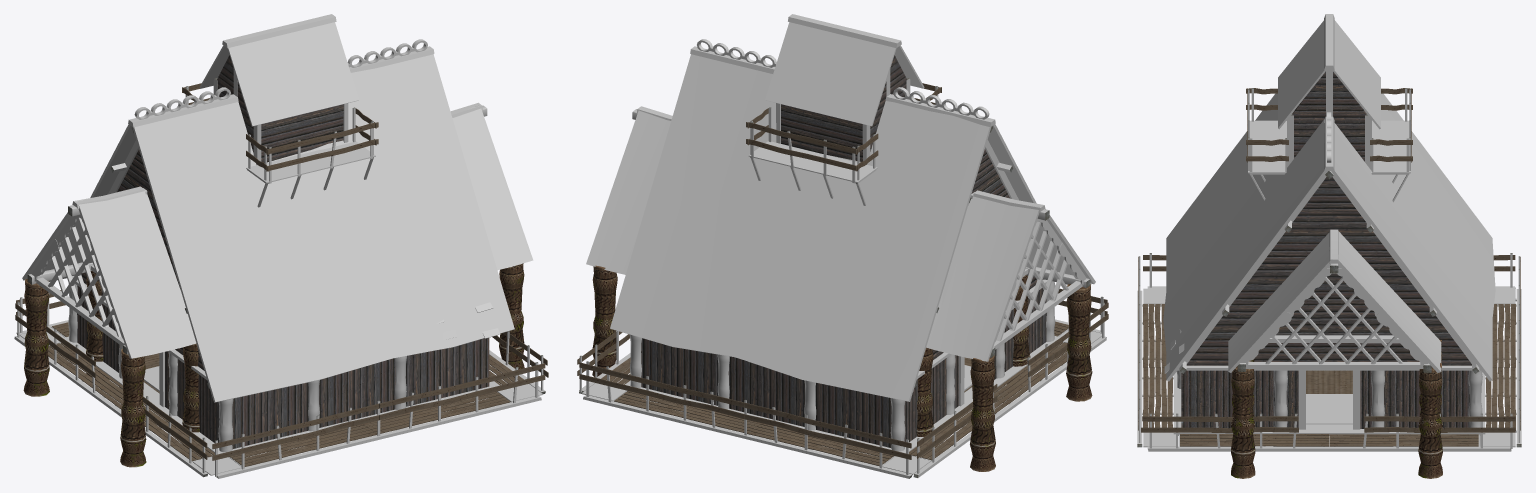
Rendered from houseMidd.fbx.
The picture shows the model from 3 angles, left to right: view 1: azimuth 30°, elevation 25°; view 2: azimuth 150°, elevation 25°; view 3: azimuth 270°, elevation 25°; orthographic projection. The views are drawn at different scales.
Visible parts, largest first — view 1: polySurface1790, polySurface1768, polySurface1599, polySurface1640, polySurface1955, polySurface1597, column41, column42, polySurface1565, polySurface1812, polySurface1744, column3 (+23 smaller); view 2: polySurface1789, polySurface1769, polySurface1598, polySurface1787, polySurface1954, polySurface1597, column42, column41, column38, polySurface1549, polySurface1732, polySurface1814 (+24 smaller); view 3: polySurface1790, polySurface1789, polySurface1815, polySurface1817, polySurface1819, polySurface1954, polySurface1955, polySurface1597, polySurface1787, polySurface1640, column3, column38 (+35 smaller).
Part boxes in pixels (bbox=[...]): polySurface1790: bbox=[132, 54, 514, 402]; polySurface1768: bbox=[78, 191, 196, 358]; polySurface1599: bbox=[232, 337, 489, 448]; polySurface1640: bbox=[227, 22, 358, 126]; polySurface1955: bbox=[452, 105, 533, 270]; polySurface1597: bbox=[217, 55, 343, 162]; column41: bbox=[120, 349, 146, 467]; column42: bbox=[23, 279, 49, 396]; polySurface1565: bbox=[216, 395, 541, 478]; polySurface1812: bbox=[165, 351, 219, 442]; polySurface1744: bbox=[246, 141, 375, 183]; column3: bbox=[499, 263, 524, 369]; polySurface1789: bbox=[610, 54, 991, 401]; polySurface1769: bbox=[926, 196, 1039, 361]; polySurface1598: bbox=[641, 338, 891, 447]; polySurface1787: bbox=[765, 22, 896, 126]; polySurface1954: bbox=[586, 110, 670, 274]; polySurface1597: bbox=[781, 55, 906, 161]; column42: bbox=[970, 355, 995, 471]; column41: bbox=[1066, 284, 1092, 401]; column38: bbox=[592, 265, 617, 377]; polySurface1549: bbox=[583, 395, 912, 478]; polySurface1732: bbox=[748, 141, 877, 182]; polySurface1814: bbox=[904, 355, 958, 442]; polySurface1790: bbox=[1163, 93, 1327, 381]; polySurface1789: bbox=[1331, 93, 1495, 381]; polySurface1815: bbox=[1186, 177, 1471, 365]; polySurface1817: bbox=[1183, 370, 1298, 428]; polySurface1819: bbox=[1360, 370, 1469, 428]; polySurface1954: bbox=[1338, 231, 1441, 372]; polySurface1955: bbox=[1228, 233, 1332, 372]; polySurface1597: bbox=[1292, 71, 1366, 161]; polySurface1787: bbox=[1332, 20, 1380, 129]; polySurface1640: bbox=[1278, 20, 1326, 129]; column3: bbox=[1231, 361, 1255, 478]; column38: bbox=[1418, 363, 1442, 478].
Size of the model in its own units: 16.7 by 13.64 by 13.79.
